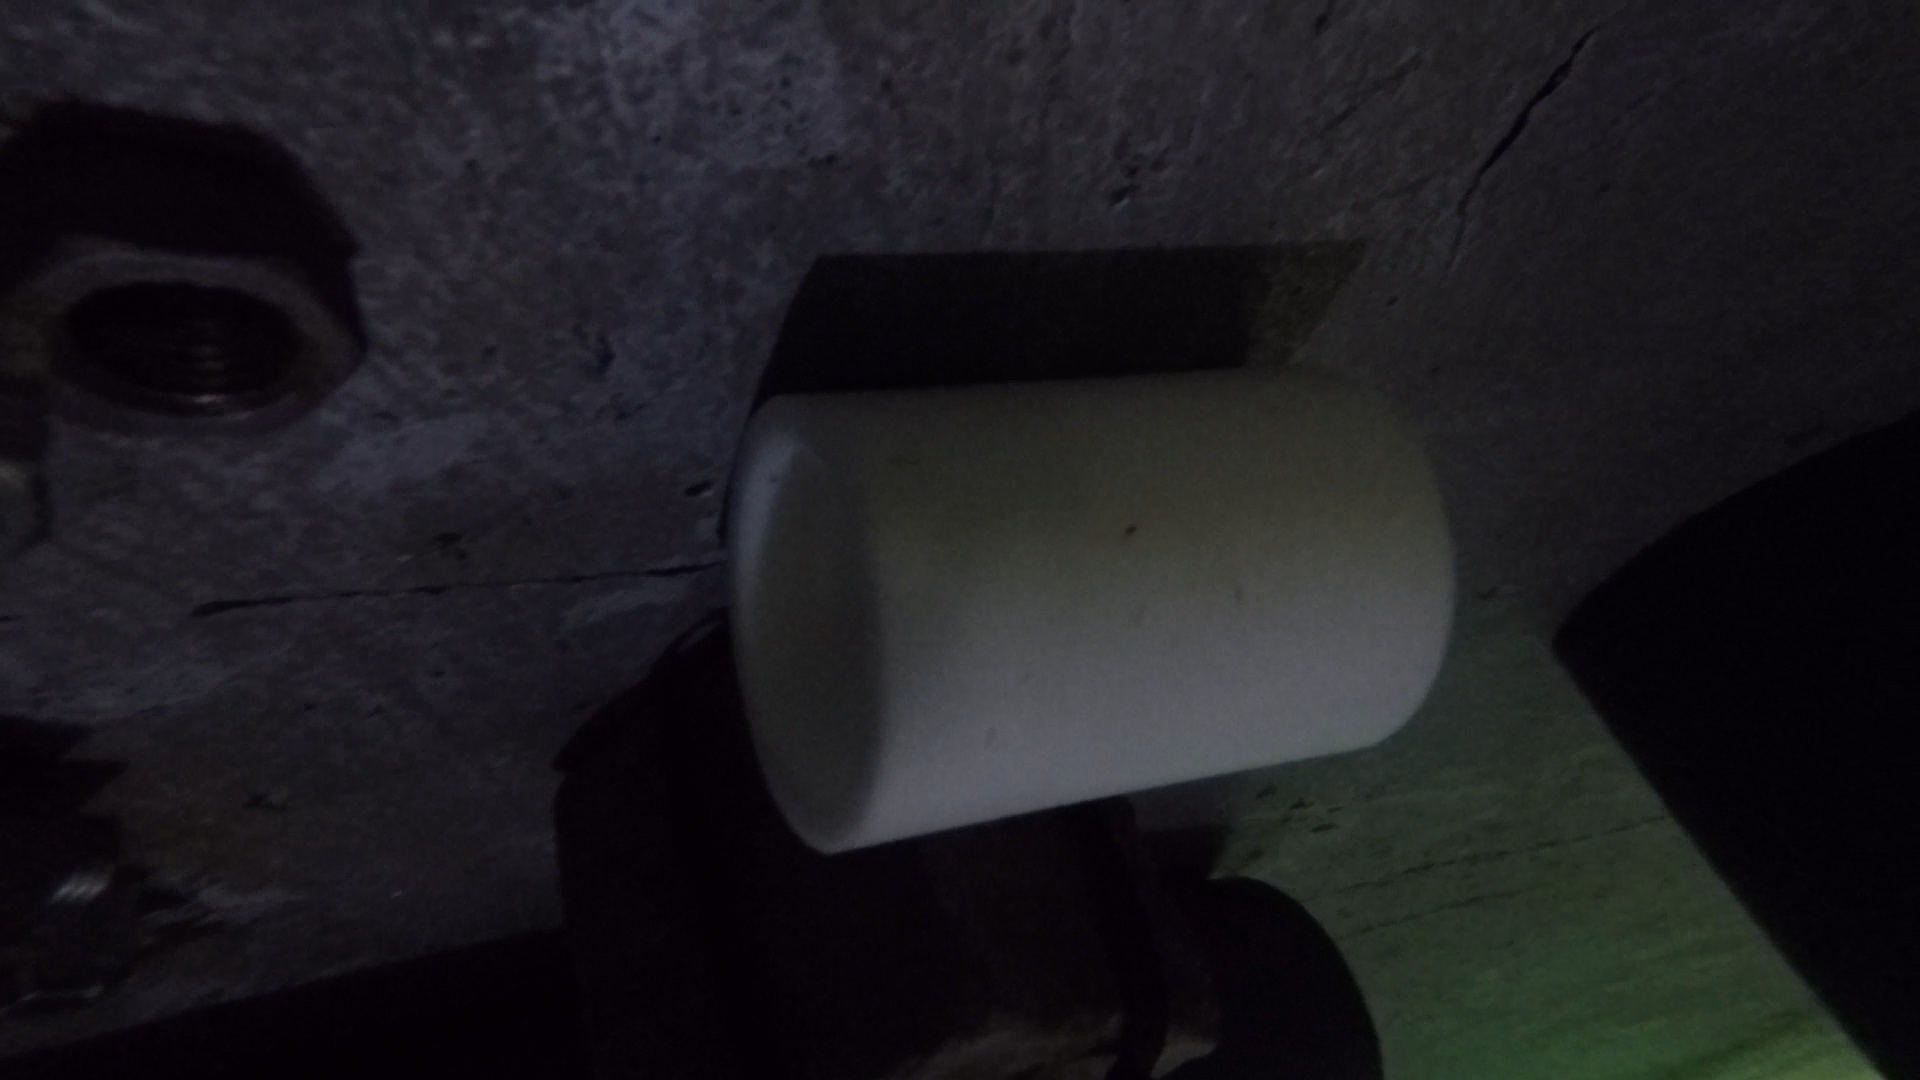bolt: (1, 828, 121, 910)
led_block: (551, 657, 1233, 1080)
nut: (9, 199, 372, 446)
pipe: (721, 363, 1453, 856), (1553, 409, 1920, 1071)
